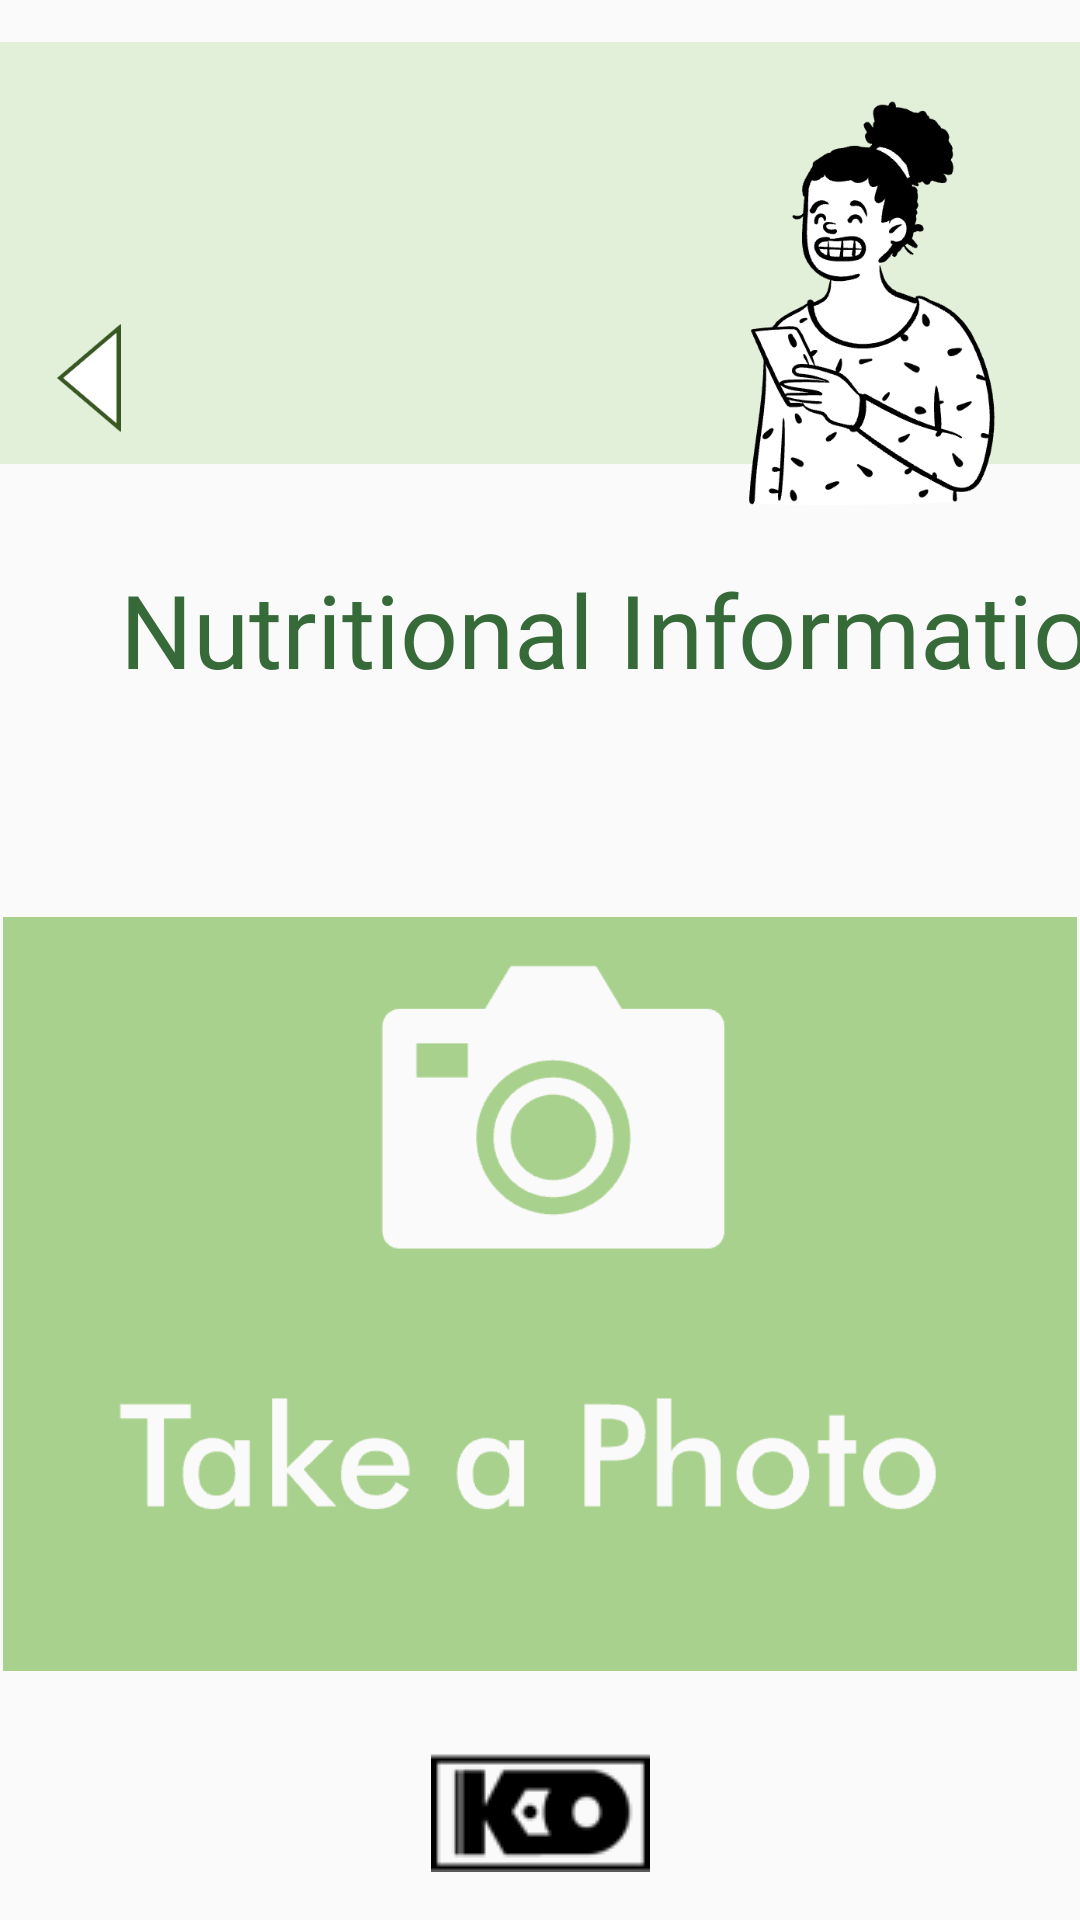

Where icons sit on this 1080 x 1920 app screen, as (x1, y1, x2, y2):
back: (57, 324, 121, 432)
